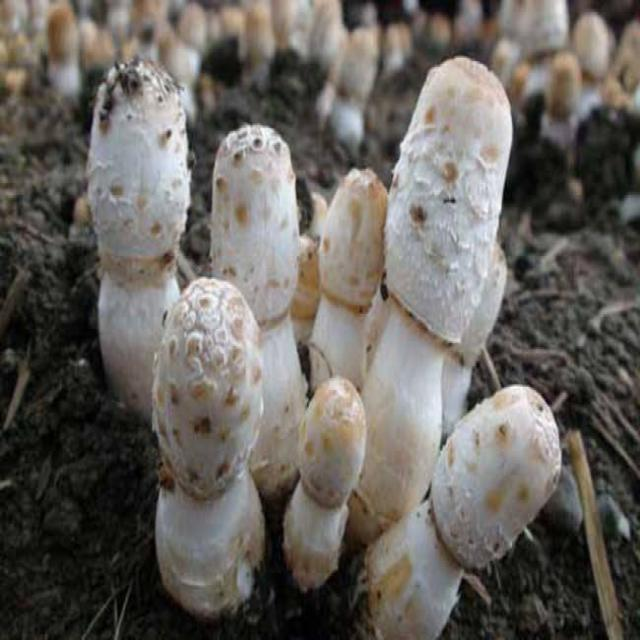Coprinus comatus: (384, 59, 512, 535), (366, 387, 563, 640), (149, 276, 266, 612), (86, 59, 191, 413), (209, 125, 307, 490), (282, 376, 367, 588), (314, 169, 382, 380)
